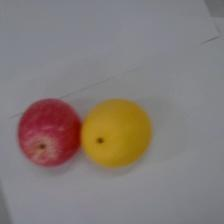red: (18, 98, 82, 167)
yellow: (82, 99, 153, 168)
